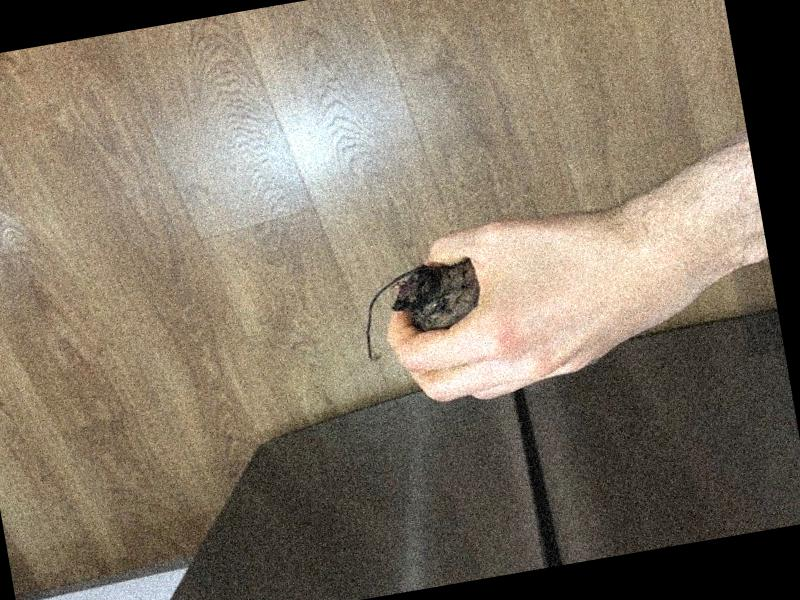Beet: (351, 256, 488, 364)
